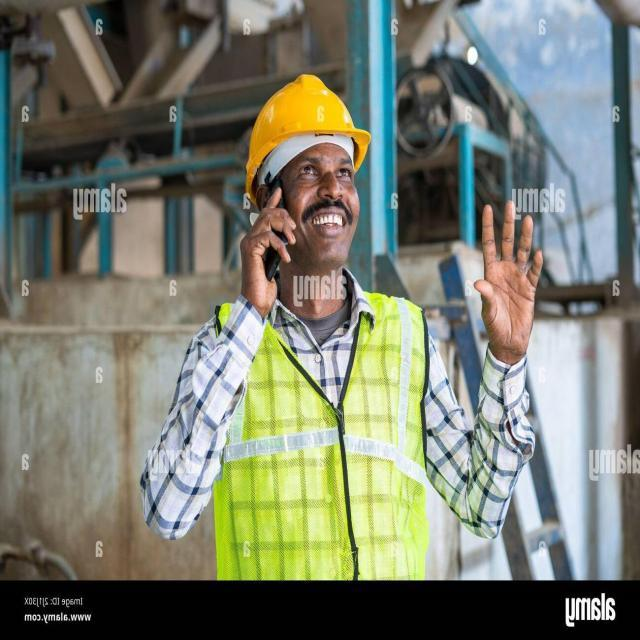reflective_jacket: (211, 293, 436, 579)
safety_helmet: (242, 68, 371, 178)
